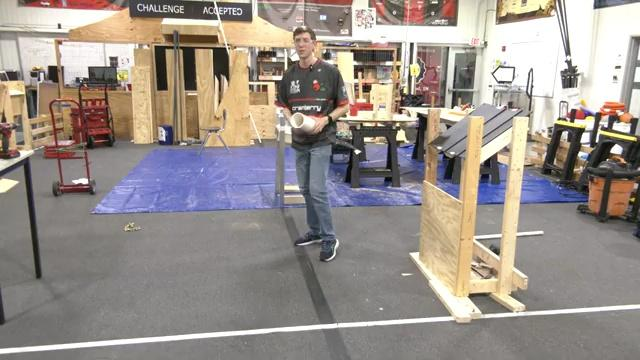CORAL: (289, 111, 316, 133)
